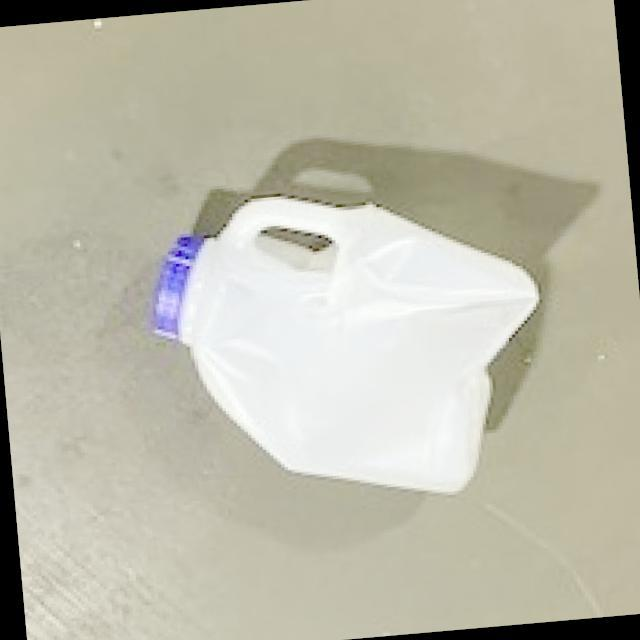HDPE Plastic: (148, 192, 540, 497)
